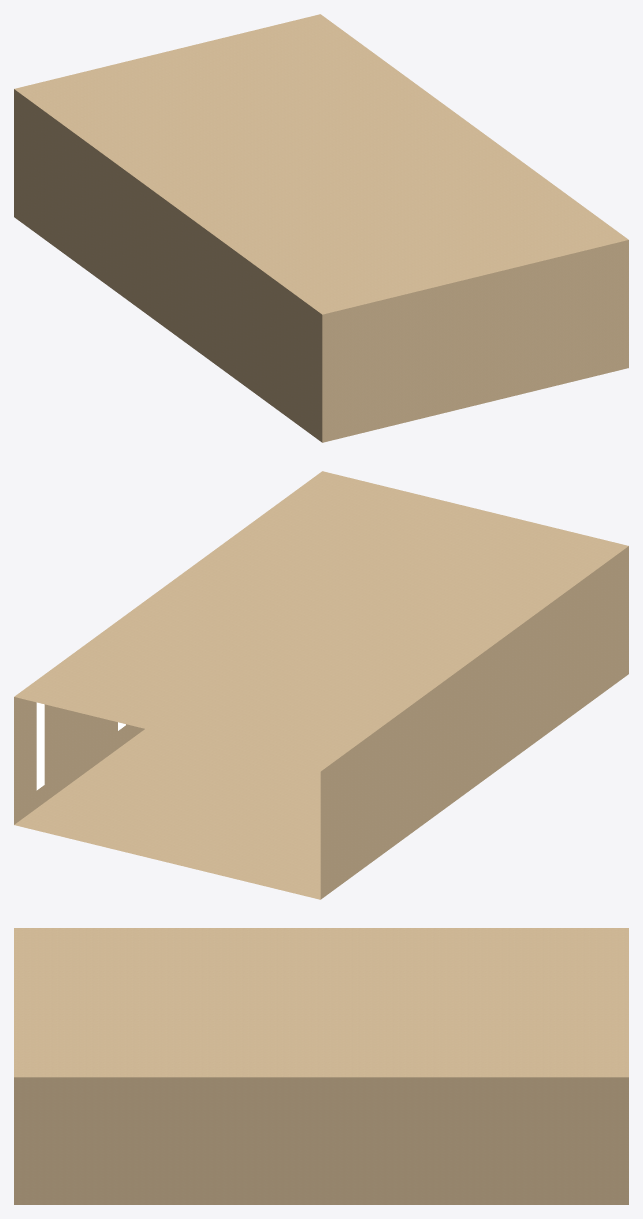
The model's file is mapmenu.glb.
The picture shows the model from 3 angles, top to bottom: view 1: azimuth 30°, elevation 25°; view 2: azimuth 150°, elevation 25°; view 3: azimuth 270°, elevation 25°; orthographic projection.
Parts seen in each view (by area): view 1: Cube; view 2: Cube, light.003; view 3: Cube.
Part boxes in pixels (bbox=[...]): Cube: bbox=[14, 14, 628, 442]; Cube: bbox=[14, 471, 628, 899]; light.003: bbox=[36, 702, 44, 790]; Cube: bbox=[14, 928, 628, 1204].
Bounding box in the file's own units: 7.58 × 3.03 × 13.2.
Materials: 6 (1 with a texture image).
